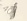microplastic: (4, 2, 17, 20)
